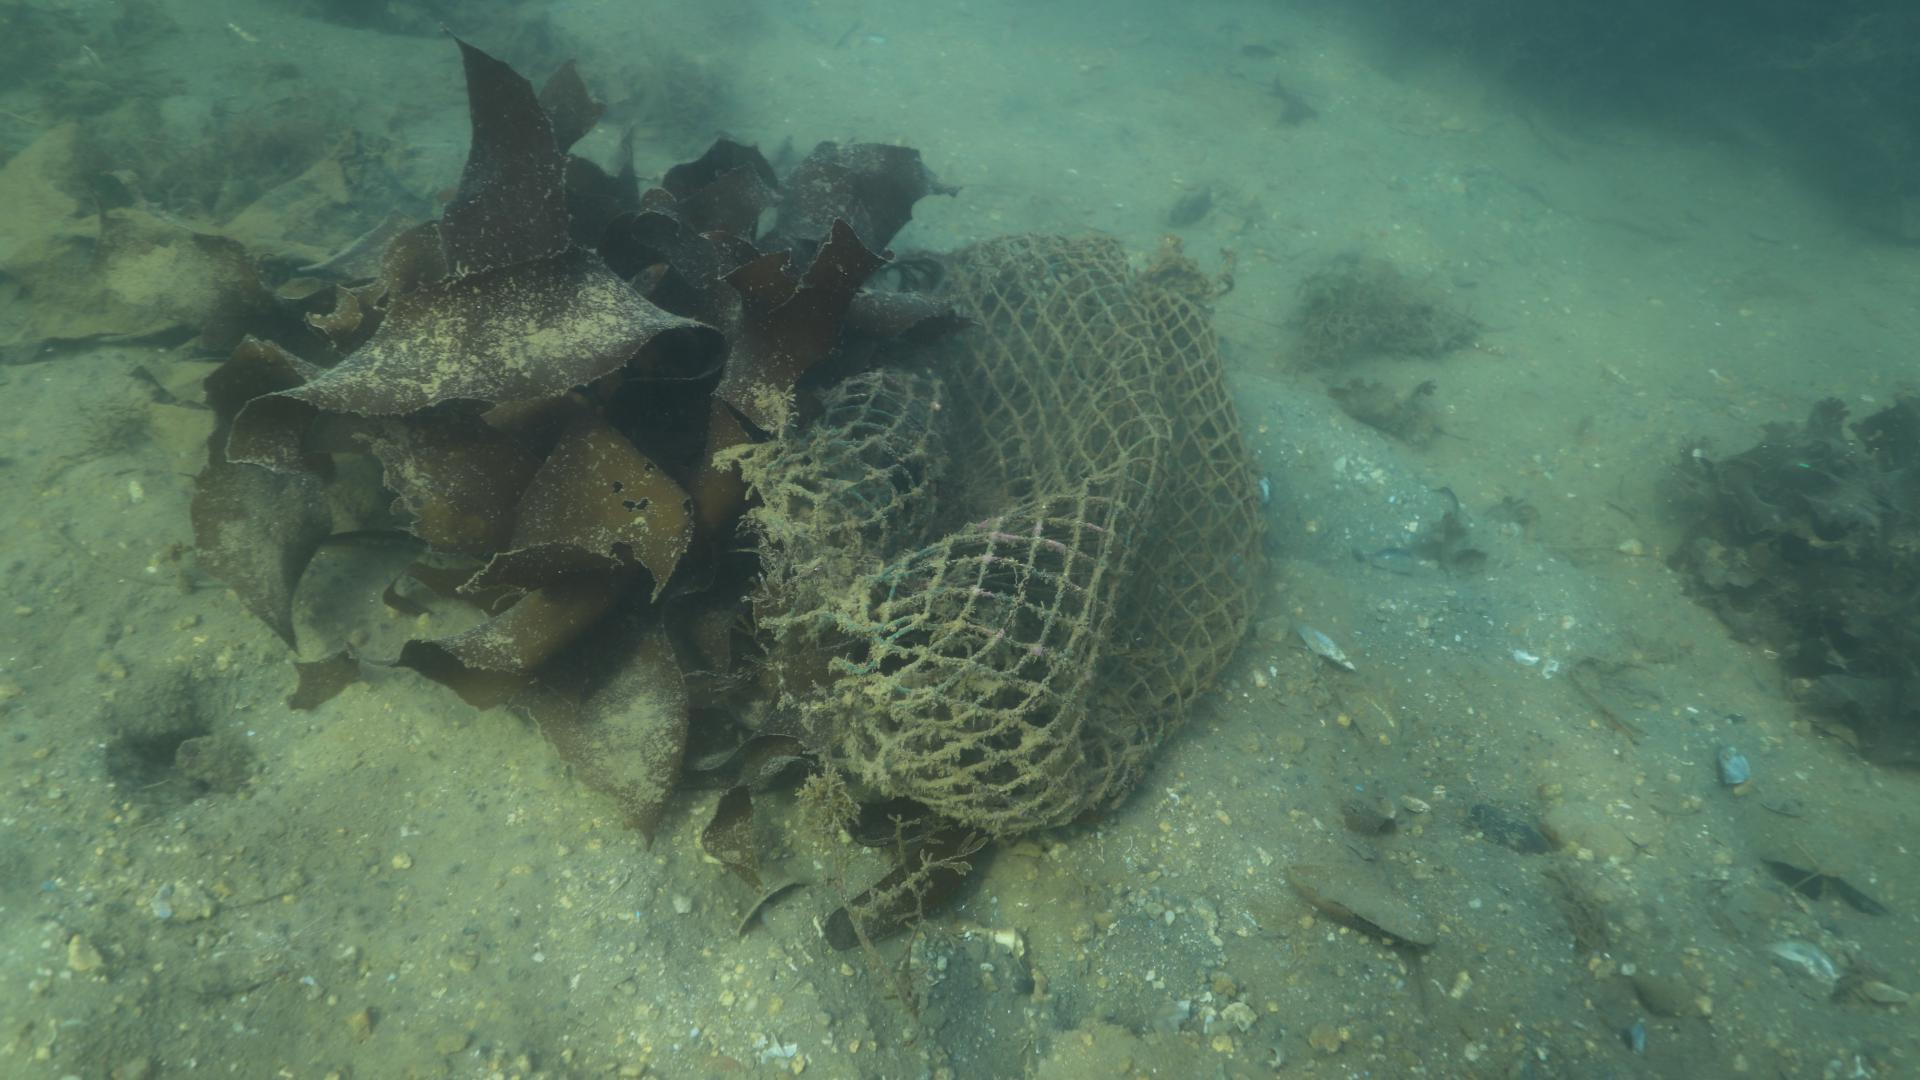fish net: (779, 233, 1271, 836)
